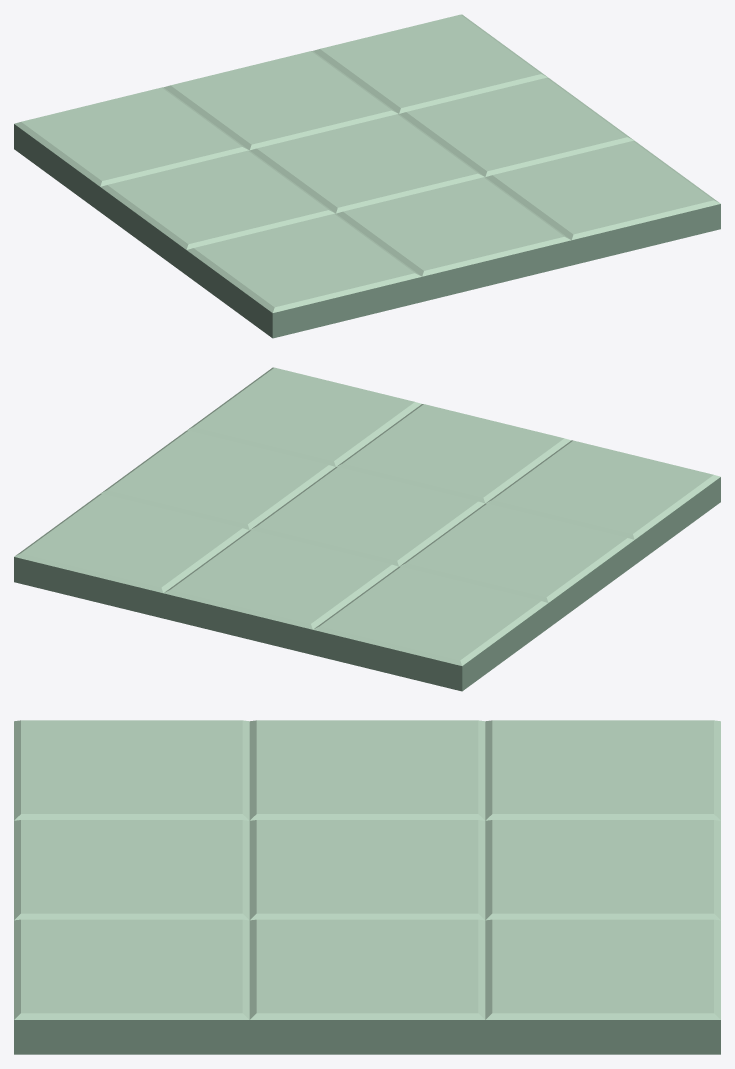
The model's file is boden_fliese_gruen_a.glb.
3 views of the same model, one above another, from view 1: azimuth 30°, elevation 25°; view 2: azimuth 150°, elevation 25°; view 3: azimuth 270°, elevation 25° (orthographic). The views are drawn at different scales.
Parts seen in each view (by area): view 1: boden_fliese_gruen_a; view 2: boden_fliese_gruen_a; view 3: boden_fliese_gruen_a.
Boxes of the visible parts, box(x1,y1,x2,y2) form: boden_fliese_gruen_a: box(14, 14, 720, 338); boden_fliese_gruen_a: box(14, 367, 720, 691); boden_fliese_gruen_a: box(14, 720, 720, 1054).
Size of the model in its own units: 1 by 0.06 by 1.
